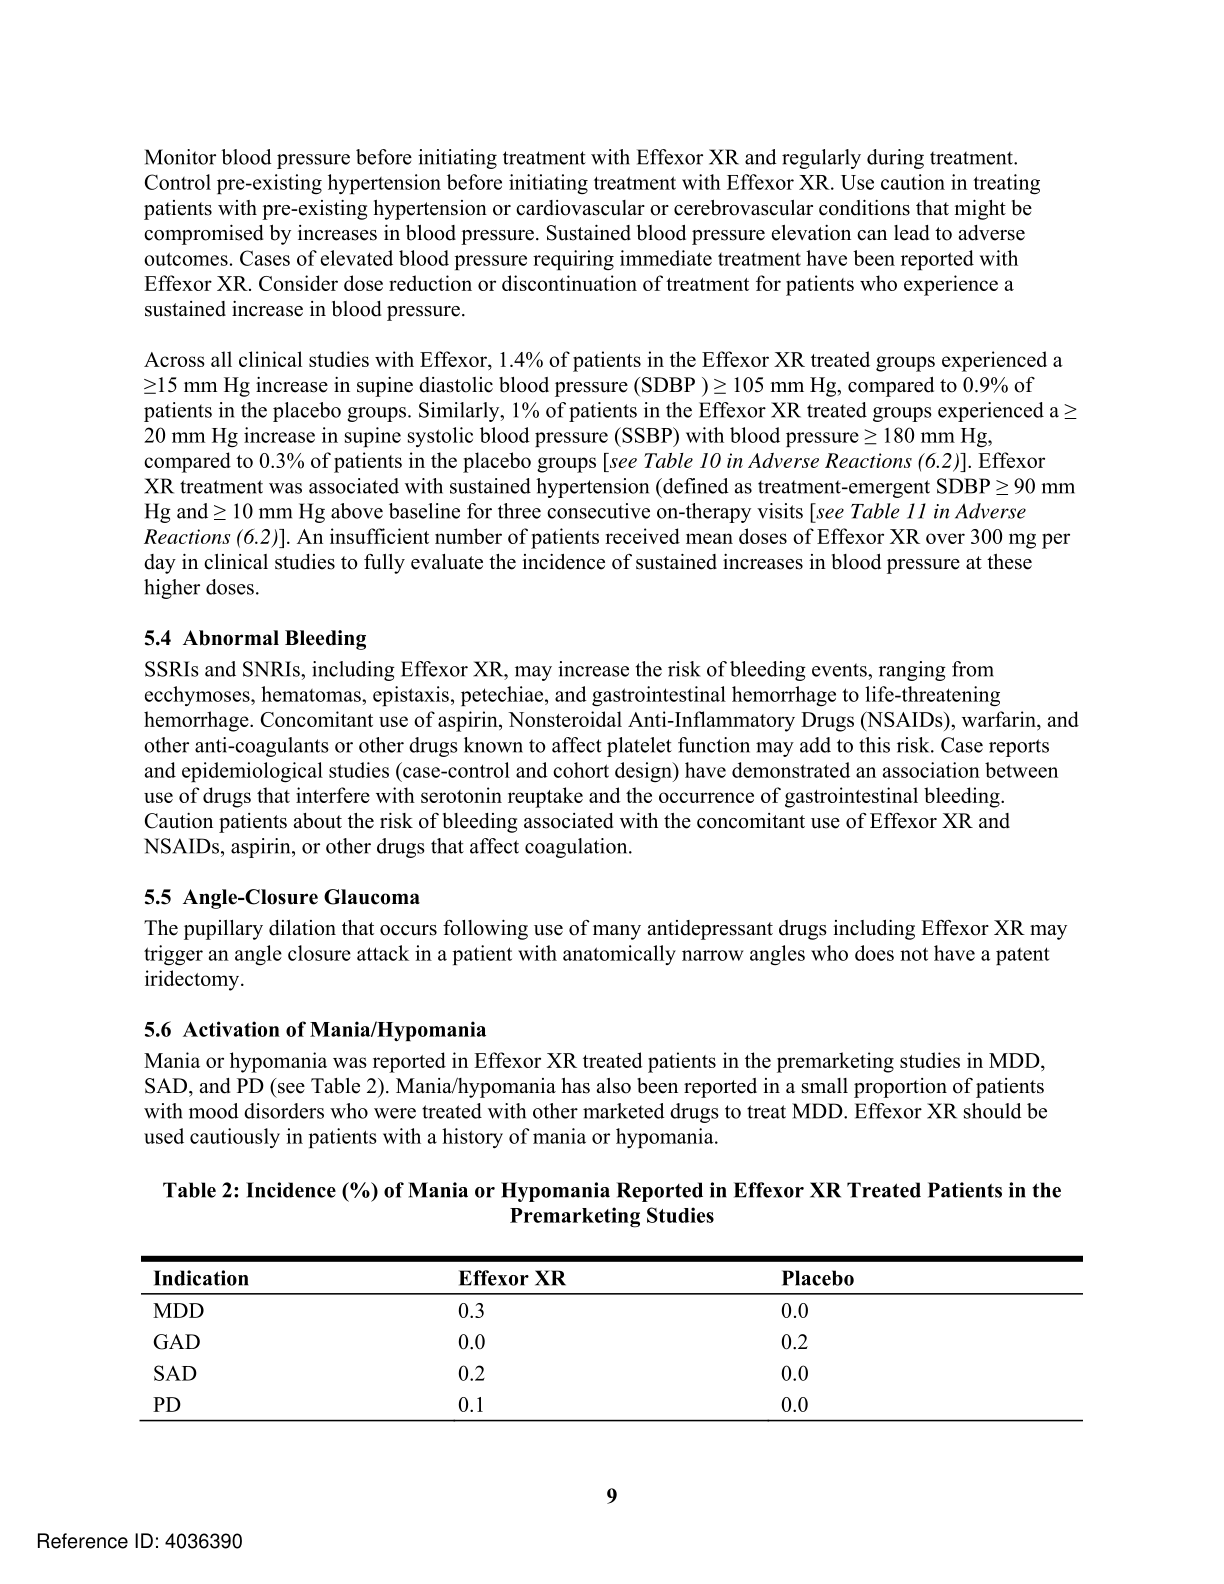partial_lined: (138, 1252, 1086, 1426)
